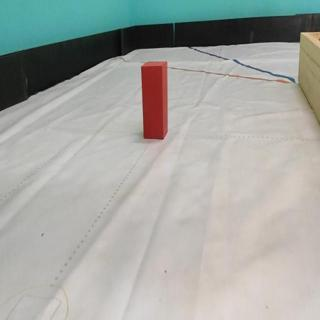redbox: (141, 61, 169, 140)
